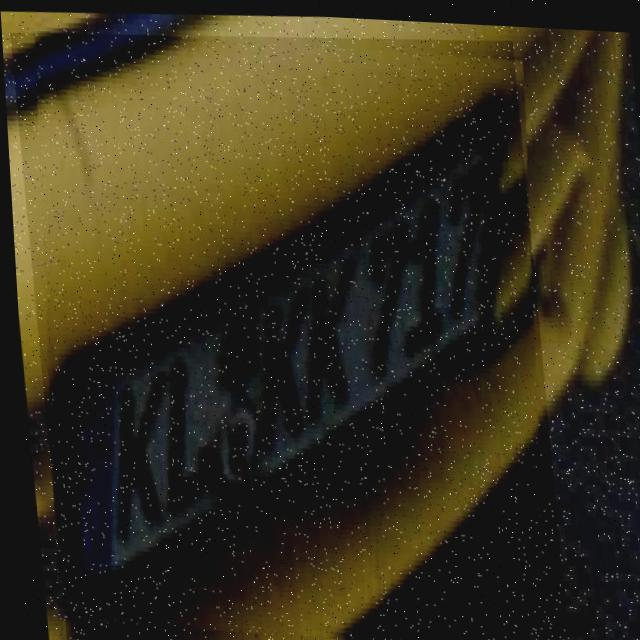LicensePlate: (9, 14, 563, 640)
